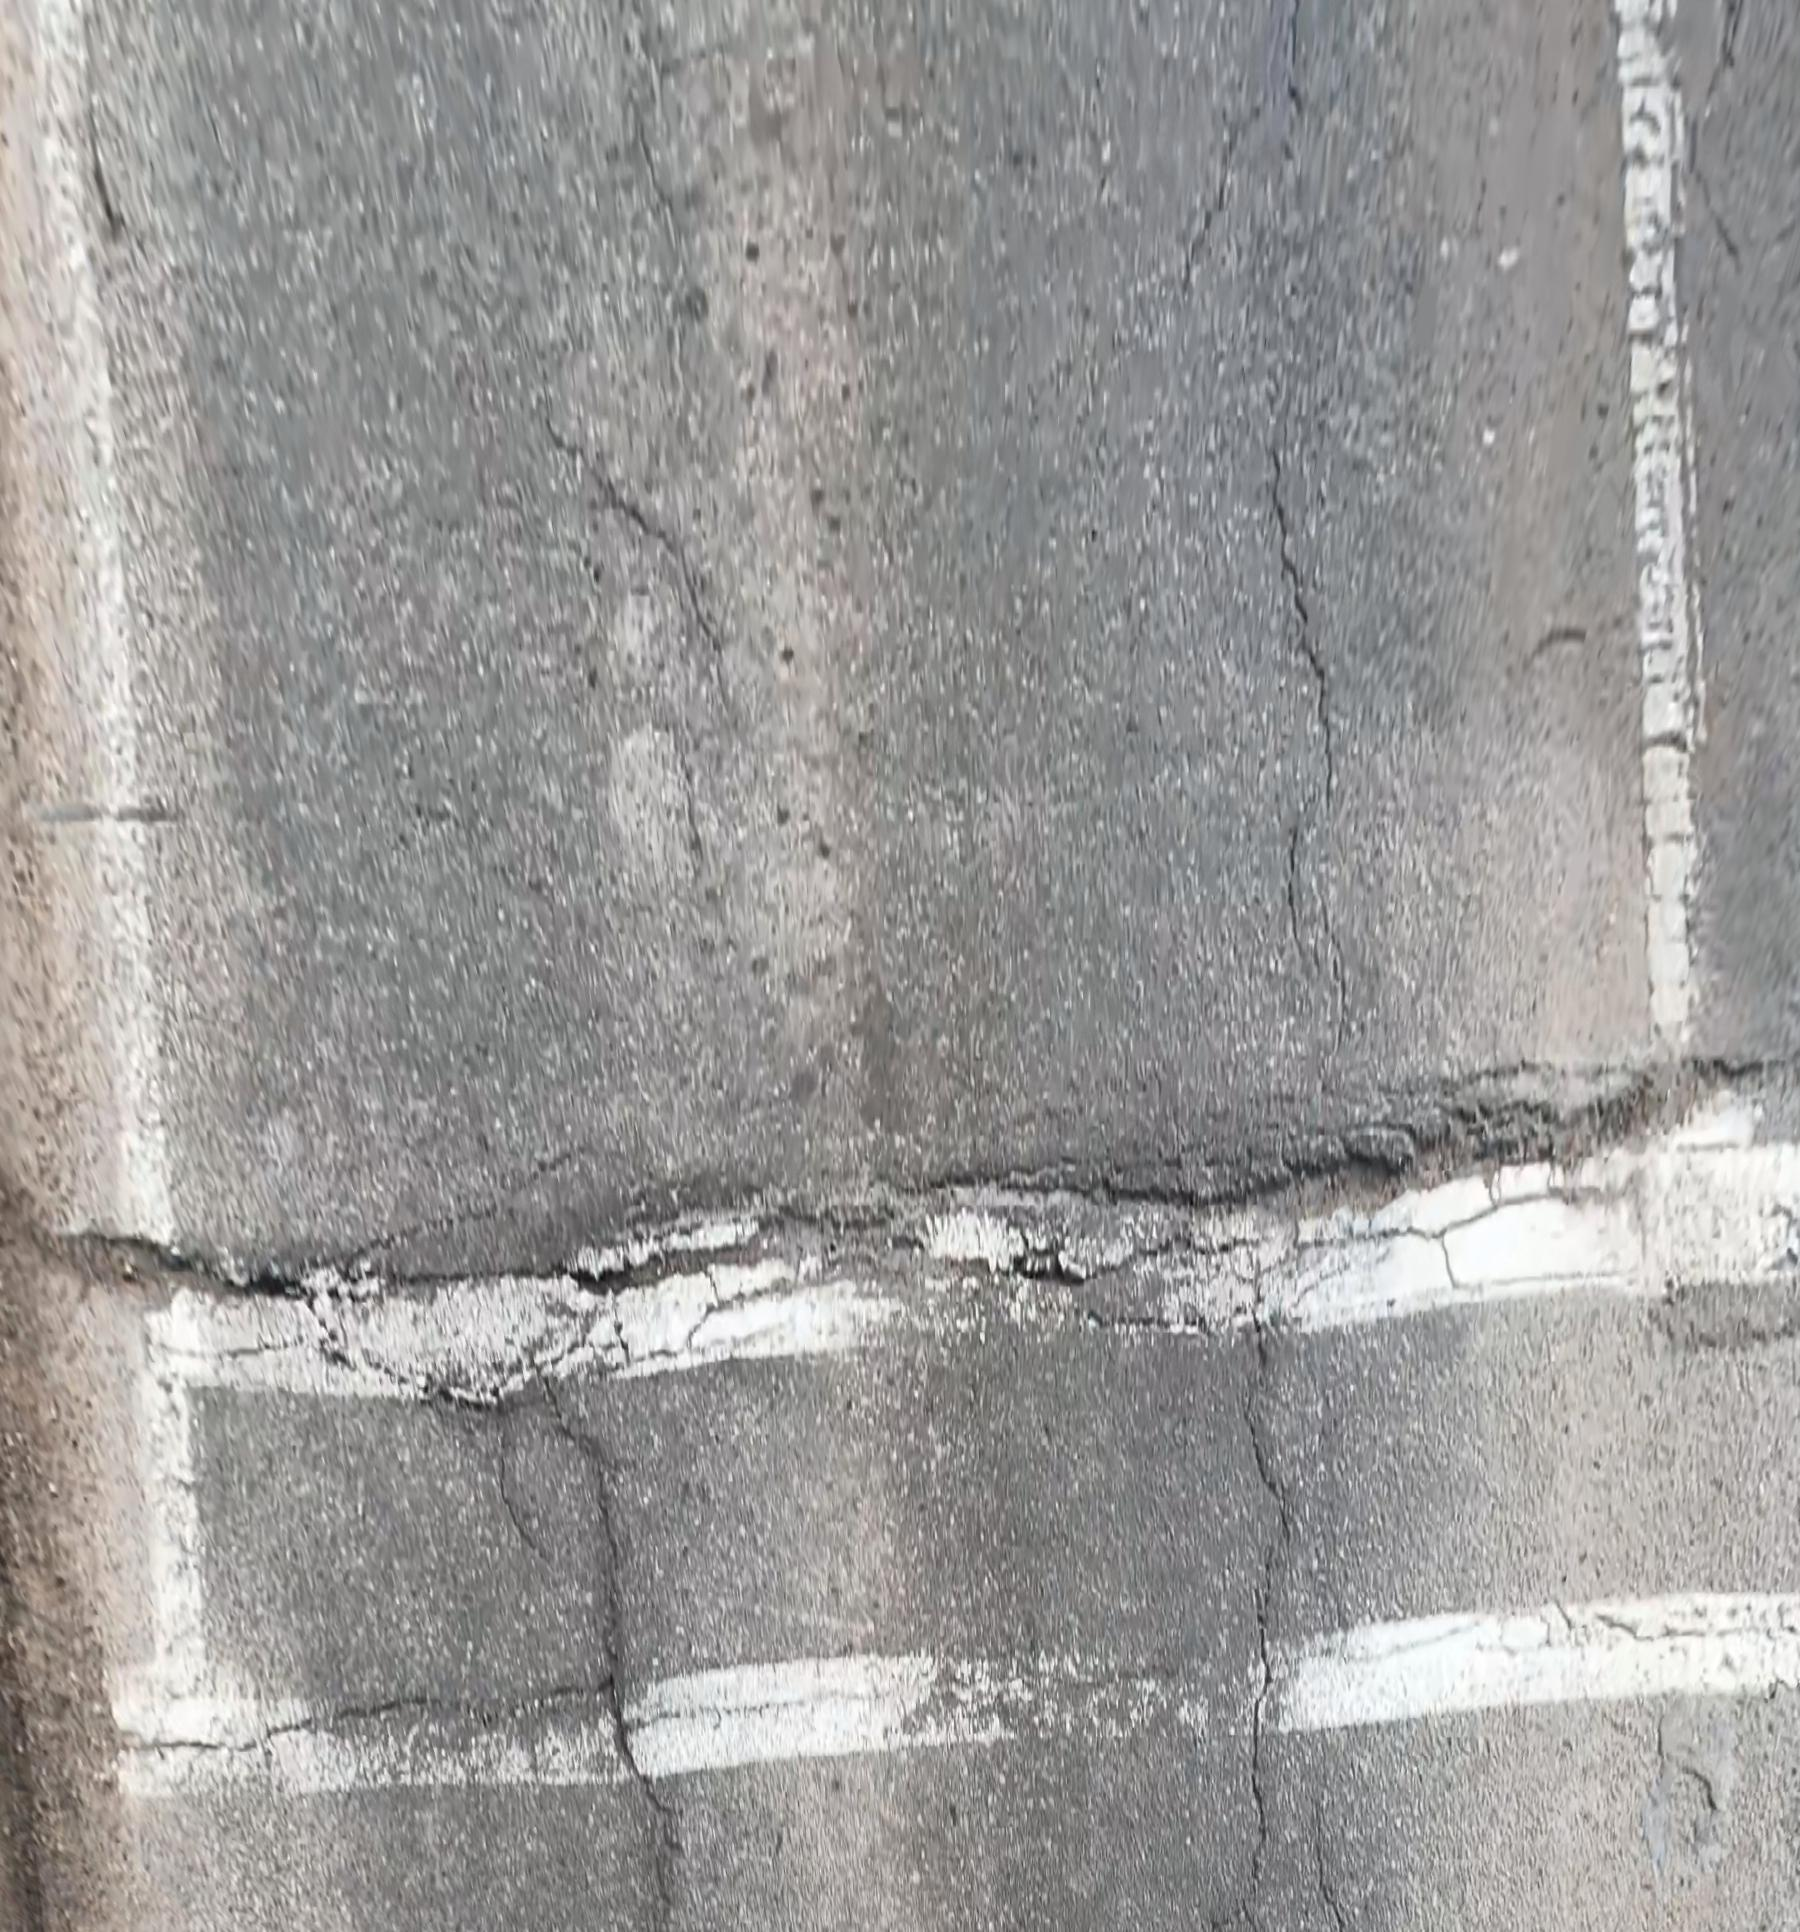pothole: (1250, 1062, 1736, 1220), (30, 1228, 301, 1309)
